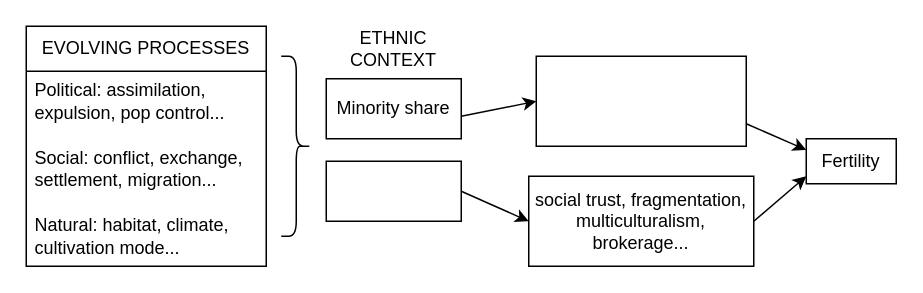
The diagram is 923 pixels wide and 293 high, and some of its shapes have lost their labels. Each missing label, with the centre of its shape:
Diversity: the point at 393,190
group dominance, relative deprivation, normativity, endogamy, migration...: the point at 640,100
